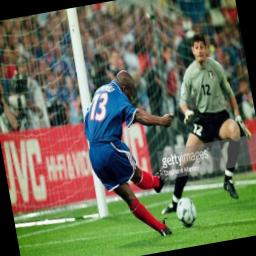football: (174, 196, 200, 230)
